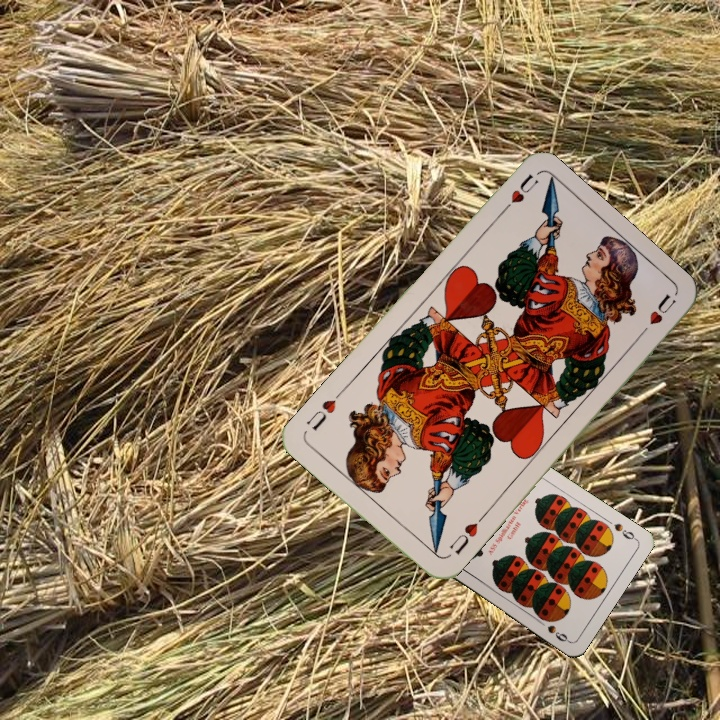HU: (494, 170, 541, 219), (445, 512, 486, 558)
S9: (610, 519, 639, 543)
